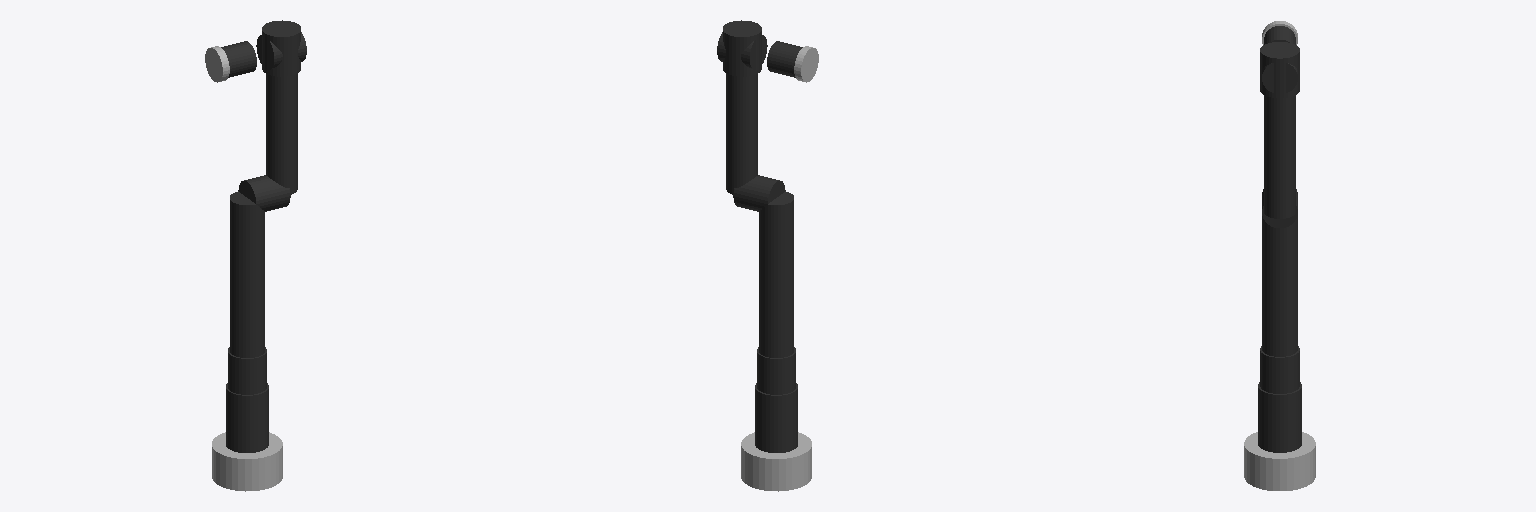
The robot description file, URDF, robot "two_dof_robot":
<?xml version="1.0"?>

<robot name="two_dof_robot">
    
    <!-- ========================================================== -->
<!-- Materials -->
<!-- ========================================================== -->

<material name="light_gray">
    <color rgba="0.73 0.73 0.73 1"/>
</material>

<material name="dark_gray">
    <color rgba="0.25 0.25 0.25 1"/>
</material>

<!-- ========================================================== -->
<!-- World -->
<!-- ========================================================== -->

<link name="world"/>

<joint name="fixed_joint1" type="fixed">
    <parent link="world"/>
    <child link="base_link"/>
    <origin xyz="0 0 0" rpy="0 0 0"/>
</joint>

<!-- ========================================================== -->
<!-- Base -->
<!-- ========================================================== -->

<link name="base_link">

    <visual>
        <origin xyz="0 0 0.045"/>
        <geometry>
            <cylinder radius="0.09" length="0.09"/>
        </geometry>

        <material name="light_gray"/>
    </visual>

    <collision>
        <origin xyz="0 0 0.045"/>
        <geometry>
            <cylinder radius="0.085" length="0.09"/>
        </geometry>
    </collision>

    <inertial>

        <origin xyz="0 0 0.045"/>

        <mass value="4.0"/>

        <inertia
            ixx="0.018"
            ixy="0"
            ixz="0"
            iyy="0.018"
            iyz="0"
            izz="0.028"/>

    </inertial>

</link>

<!-- ========================================================== -->
<!-- Joint 1 -->
<!-- ========================================================== -->

<joint name="joint_1" type="revolute">

    <parent link="base_link"/>
    <child link="link_1"/>

    <origin xyz="0 0 0.09" rpy="0 0 0"/>

    <axis xyz="0 0 1"/>

    <limit
        lower="-3.14159"
        upper="3.14159"
        effort="100"
        velocity="3.14"/>

    <dynamics damping="1.5" friction="0.2"/>

</joint>

<!-- ========================================================== -->
<!-- SHOULDER LINK -->
<!-- ========================================================== -->

<link name="link_1">

    <visual>
        <origin xyz="0 0 0.08" rpy="0 0 0"/>
        <geometry>
            <cylinder radius="0.055" length="0.16"/>
        </geometry>
        <material name="dark_gray"/>
    </visual>

    <collision>
        <origin xyz="0 0 0.08" rpy="0 0 0"/>
        <geometry>
            <cylinder radius="0.050" length="0.16"/>
        </geometry>
    </collision>

    <inertial>
        <origin xyz="0 0 0.08"/>
        <mass value="3.0"/>

        <inertia
            ixx="0.009"
            ixy="0"
            ixz="0"
            iyy="0.009"
            iyz="0"
            izz="0.003"/>
    </inertial>

</link>

<!-- ========================================================== -->
<!-- Rotate into horizontal shoulder frame -->
<!-- ========================================================== -->

<joint name="fixed_joint2" type="fixed">

    <parent link="link_1"/>
    <child link="fixed_link2"/>

    <origin xyz="0 0 0.16"
            rpy="0 -1.57079632679 0"/>

</joint>

<!-- ========================================================== -->
<!-- Shoulder Housing -->
<!-- ========================================================== -->

<link name="fixed_link2">

    <visual>
        <origin xyz="0.05 0 0"
                rpy="0 1.57079632679 0"/>

        <geometry>
            <cylinder radius="0.050"
                      length="0.10"/>
        </geometry>

        <material name="dark_gray"/>

    </visual>

    <collision>

        <origin xyz="0.05 0 0"
                rpy="0 1.57079632679 0"/>

        <geometry>
            <cylinder radius="0.045"
                      length="0.10"/>
        </geometry>

    </collision>

    <inertial>

        <origin xyz="0.05 0 0"/>

        <mass value="2.0"/>

        <inertia
            ixx="0.0035"
            ixy="0"
            ixz="0"
            iyy="0.0035"
            iyz="0"
            izz="0.0018"/>

    </inertial>

</link>

<!-- ========================================================== -->
<!-- Shoulder Pitch Joint -->
<!-- ========================================================== -->

<joint name="joint_2" type="revolute">

    <parent link="fixed_link2"/>
    <child link="link_2"/>

    <origin xyz="0.10 0 0"
            rpy="0 0 0"/>

    <axis xyz="0 0 1"/>

    <limit
        lower="-3.14159"
        upper="3.14159"
        effort="100"
        velocity="3.14"/>

    <dynamics
        damping="1.2"
        friction="0.15"/>

</joint>

<!-- ========================================================== -->
<!-- UPPER ARM -->
<!-- ========================================================== -->

<link name="link_2">

    <visual>

        <origin xyz="0.2125 0 0"
                rpy="0 1.57079632679 0"/>

        <geometry>
            <cylinder radius="0.045"
                      length="0.425"/>
        </geometry>

        <material name="dark_gray"/>

    </visual>

    <collision>

        <origin xyz="0.2125 0 0"
                rpy="0 1.57079632679 0"/>

        <geometry>
            <cylinder radius="0.040"
                      length="0.425"/>
        </geometry>

    </collision>

    <inertial>

        <origin xyz="0.2125 0 0"/>

        <mass value="8.0"/>

        <inertia
            ixx="0.125"
            ixy="0"
            ixz="0"
            iyy="0.125"
            iyz="0"
            izz="0.007"/>

    </inertial>

</link>

<!-- ========================================================== -->
<!-- ELBOW TRANSITION -->
<!-- ========================================================== -->

<joint name="fixed_joint3"
       type="fixed">

    <parent link="link_2"/>
    <child link="fixed_link3"/>

    <origin xyz="0.425 0 0"
            rpy="0 1.57079632679 0"/>

</joint>

<!-- ========================================================== -->
<!-- ELBOW HOUSING -->
<!-- ========================================================== -->

<link name="fixed_link3">

    <visual>

        <origin xyz="0.05 0 0"
                rpy="0 1.57079632679 0"/>

        <geometry>
            <cylinder radius="0.045"
                      length="0.10"/>
        </geometry>

        <material name="dark_gray"/>

    </visual>

    <collision>

        <origin xyz="0.05 0 0"
                rpy="0 1.57079632679 0"/>

        <geometry>
            <cylinder radius="0.040"
                      length="0.10"/>
        </geometry>

    </collision>

    <inertial>

        <origin xyz="0.05 0 0"/>

        <mass value="1.5"/>

        <inertia
            ixx="0.0025"
            ixy="0"
            ixz="0"
            iyy="0.0025"
            iyz="0"
            izz="0.0015"/>

    </inertial>

</link>

<!-- ========================================================== -->
<!-- ELBOW JOINT -->
<!-- ========================================================== -->

<joint name="joint_3"
       type="revolute">

    <parent link="fixed_link3"/>
    <child link="link_3"/>

    <origin xyz="0.10 0 0"
            rpy="0 1.57079632679 0"/>

    <axis xyz="0 0 1"/>

    <limit
        lower="-3.14159"
        upper="3.14159"
        effort="100"
        velocity="3.14"/>

    <dynamics
        damping="1.0"
        friction="0.10"/>

</joint>

<!-- ========================================================== -->
<!-- FOREARM -->
<!-- ========================================================== -->

<link name="link_3">

    <visual>

        <origin xyz="-0.196 0 0"
                rpy="0 1.57079632679 0"/>

        <geometry>
            <cylinder radius="0.040"
                      length="0.392"/>
        </geometry>

        <material name="dark_gray"/>

    </visual>

    <collision>

        <origin xyz="-0.196 0 0"
                rpy="0 1.57079632679 0"/>

        <geometry>
            <cylinder radius="0.036"
                      length="0.392"/>
        </geometry>

    </collision>

    <inertial>

        <origin xyz="-0.196 0 0"/>

        <mass value="4.5"/>

        <inertia
            ixx="0.060"
            ixy="0"
            ixz="0"
            iyy="0.060"
            iyz="0"
            izz="0.004"/>

    </inertial>

</link>

<!-- ========================================================== -->
<!-- WRIST 1 JOINT -->
<!-- ========================================================== -->

<joint name="joint_4"
       type="revolute">

    <parent link="link_3"/>
    <child link="link_4"/>

    <!-- End of forearm -->
    <origin xyz="-0.392 0 0"
            rpy="0 1.57079632679 0"/>

    <axis xyz="0 0 1"/>

    <limit
        lower="-3.14159"
        upper="3.14159"
        effort="80"
        velocity="4.0"/>

    <dynamics
        damping="0.8"
        friction="0.08"/>

</joint>

<!-- ========================================================== -->
<!-- WRIST 1 -->
<!-- ========================================================== -->

<link name="link_4">

    <visual>

        <origin xyz="0 0 0"/>

        <geometry>
            <cylinder radius="0.050"
                      length="0.110"/>
        </geometry>

        <material name="dark_gray"/>

    </visual>

    <collision>

        <origin xyz="0 0 0"/>

        <geometry>
            <cylinder radius="0.045"
                      length="0.110"/>
        </geometry>

    </collision>

    <inertial>

        <origin xyz="0 0 0"/>

        <mass value="1.20"/>

        <inertia
            ixx="0.0018"
            ixy="0"
            ixz="0"
            iyy="0.0018"
            iyz="0"
            izz="0.0012"/>

    </inertial>

</link>

<!-- ========================================================== -->
<!-- WRIST 2 JOINT -->
<!-- ========================================================== -->

<joint name="joint_5"
       type="revolute">

    <parent link="link_4"/>
    <child link="link_5"/>

    <!-- Wrist center -->
    <origin xyz="0 0 0"
            rpy="0 1.57079632679 0"/>

    <axis xyz="0 0 1"/>

    <limit
        lower="-3.14159"
        upper="3.14159"
        effort="50"
        velocity="6.0"/>

    <dynamics
        damping="0.5"
        friction="0.05"/>

</joint>

<!-- ========================================================== -->
<!-- WRIST 2 -->
<!-- ========================================================== -->

<link name="link_5">

    <visual>

        <origin xyz="0 0 0"/>

        <geometry>
            <cylinder radius="0.045"
                      length="0.095"/>
        </geometry>

        <material name="dark_gray"/>

    </visual>

    <collision>

        <origin xyz="0 0 0"/>

        <geometry>
            <cylinder radius="0.040"
                      length="0.095"/>
        </geometry>

    </collision>

    <inertial>

        <origin xyz="0 0 0"/>

        <mass value="0.90"/>

        <inertia
            ixx="0.00110"
            ixy="0"
            ixz="0"
            iyy="0.00110"
            iyz="0"
            izz="0.00075"/>

    </inertial>

</link>

<!-- ========================================================== -->
<!-- WRIST 3 JOINT -->
<!-- ========================================================== -->

<joint name="joint_6"
       type="revolute">

    <parent link="link_5"/>
    <child link="link_6"/>

    <!-- Center-to-center spacing between Wrist 2 and Wrist 3 -->
    <origin xyz="0 0 0.095"
            rpy="0 0 0"/>

    <axis xyz="0 0 1"/>

    <limit
        lower="-3.14159"
        upper="3.14159"
        effort="40"
        velocity="6.28"/>

    <dynamics
        damping="0.35"
        friction="0.03"/>

</joint>

<!-- ========================================================== -->
<!-- WRIST 3 -->
<!-- ========================================================== -->

<link name="link_6">

    <visual>

        <origin xyz="0 0 0.041"/>

        <geometry>
            <cylinder radius="0.040"
                      length="0.082"/>
        </geometry>

        <material name="dark_gray"/>

    </visual>

    <collision>

        <origin xyz="0 0 0.041"/>

        <geometry>
            <cylinder radius="0.036"
                      length="0.082"/>
        </geometry>

    </collision>

    <inertial>

        <origin xyz="0 0 0.041"/>

        <mass value="0.80"/>

        <inertia
            ixx="0.00080"
            ixy="0"
            ixz="0"
            iyy="0.00080"
            iyz="0"
            izz="0.00055"/>

    </inertial>

</link>

<!-- ========================================================== -->
<!-- FLANGE -->
<!-- ========================================================== -->

<joint name="flange_joint"
       type="fixed">

    <parent link="link_6"/>
    <child link="flange"/>

    <origin xyz="0 0 0.082"
            rpy="0 0 0"/>

</joint>

<link name="flange">

    <visual>

        <origin xyz="0 0 0.010"/>

        <geometry>
            <cylinder radius="0.045"
                      length="0.020"/>
        </geometry>

        <material name="light_gray"/>

    </visual>

    <collision>

        <origin xyz="0 0 0.010"/>

        <geometry>
            <cylinder radius="0.042"
                      length="0.020"/>
        </geometry>

    </collision>

    <inertial>

        <origin xyz="0 0 0.010"/>

        <mass value="0.30"/>

        <inertia
            ixx="0.00012"
            ixy="0"
            ixz="0"
            iyy="0.00012"
            iyz="0"
            izz="0.00009"/>

    </inertial>

</link>

<!-- ========================================================== -->
<!-- TOOL0 FRAME -->
<!-- ========================================================== -->

<joint name="tool_joint"
       type="fixed">

    <parent link="flange"/>
    <child link="tool0"/>

    <!-- Robot TCP reference frame -->
    <origin xyz="0 0 0.020"
            rpy="0 0 0"/>

</joint>

<link name="tool0"/>
</robot>

--- What the picture shows (computed from the rendered views, not written in the file) ---
Views: 3 orthographic renders of the robot side by side, from view 1: azimuth 30°, elevation 25°; view 2: azimuth 150°, elevation 25°; view 3: azimuth 270°, elevation 25°.
Robot: two_dof_robot — 12 links, 11 joints (6 revolute, 5 fixed); root link world; default pose: all joints at 0.
Links seen in each view (by area): view 1: link_2, link_3, base_link, link_1, link_4, fixed_link2, fixed_link3, link_6, flange, link_5; view 2: link_2, link_3, base_link, link_1, link_4, fixed_link2, fixed_link3, link_6, flange, link_5; view 3: link_2, link_3, base_link, link_1, link_4, fixed_link2, link_5.
Boxes of the visible links, <box> form: link_2: <box>230,191,264,357</box>; link_3: <box>266,73,297,194</box>; base_link: <box>212,432,282,491</box>; link_1: <box>226,383,268,452</box>; link_4: <box>262,20,300,76</box>; fixed_link2: <box>228,347,266,394</box>; fixed_link3: <box>238,175,290,211</box>; link_6: <box>221,41,256,77</box>; flange: <box>205,46,229,82</box>; link_5: <box>256,32,306,69</box>; link_2: <box>759,191,793,357</box>; link_3: <box>726,73,757,194</box>; base_link: <box>741,432,811,491</box>; link_1: <box>755,383,797,452</box>; link_4: <box>723,20,761,76</box>; fixed_link2: <box>757,347,795,394</box>; fixed_link3: <box>733,175,785,211</box>; link_6: <box>767,41,802,77</box>; flange: <box>794,46,818,82</box>; link_5: <box>717,32,767,69</box>; link_2: <box>1262,216,1297,356</box>; link_3: <box>1264,95,1295,218</box>; base_link: <box>1244,432,1315,490</box>; link_1: <box>1258,382,1301,452</box>; link_4: <box>1260,42,1299,97</box>; fixed_link2: <box>1260,346,1299,393</box>; link_5: <box>1262,63,1297,92</box>.
Size in the robot's own frame: 0.247 by 0.18 by 1.22 metres.
Geometry: primitives only (box / cylinder / sphere), no mesh files.
